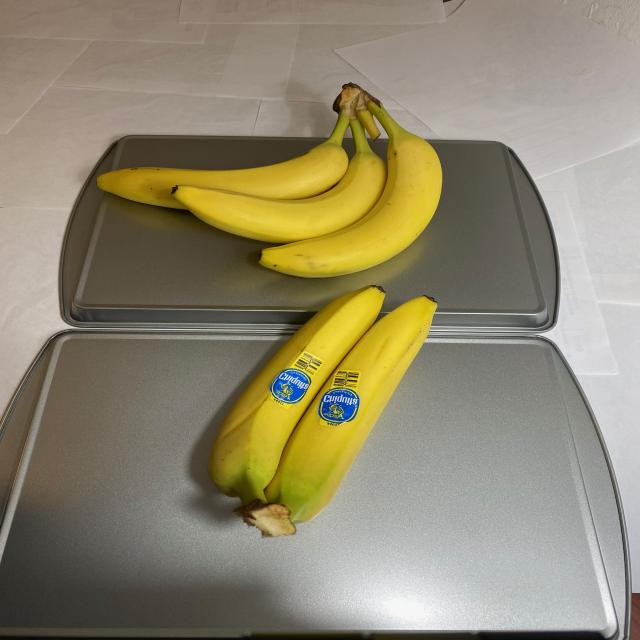banana: (93, 83, 447, 277), (202, 284, 442, 535)
